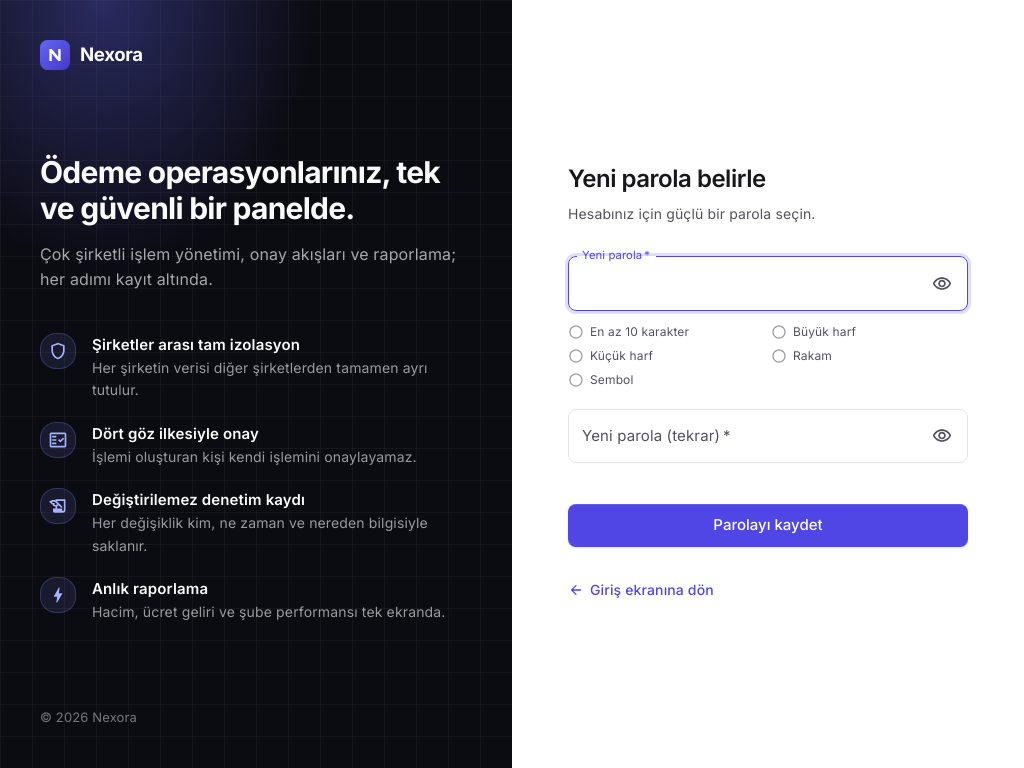
Test: reset password › sends the token from the link with the new password
Step 1. Type "Brand#New2026x" into the password field labelled "Yeni parola *" → coordinates (744, 284), box left=568, top=256, right=919, bottom=311
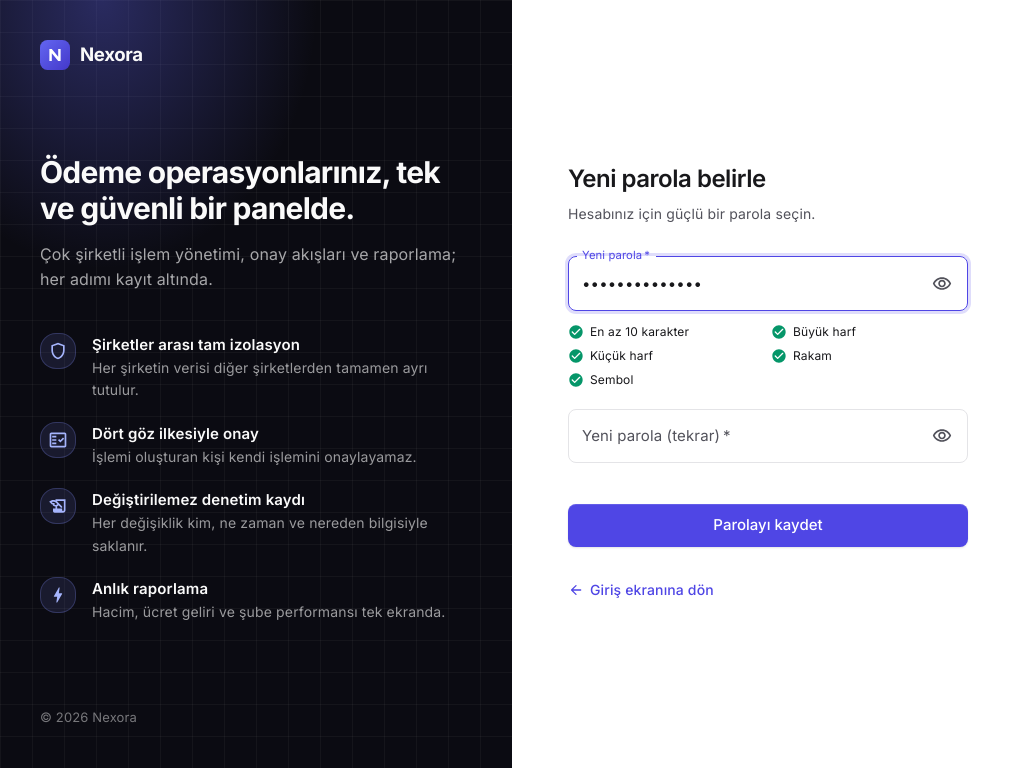
Step 2. Type "Brand#New2026x" into the password field labelled "Yeni parola (tekrar) *" → coordinates (744, 436), box left=568, top=409, right=919, bottom=464
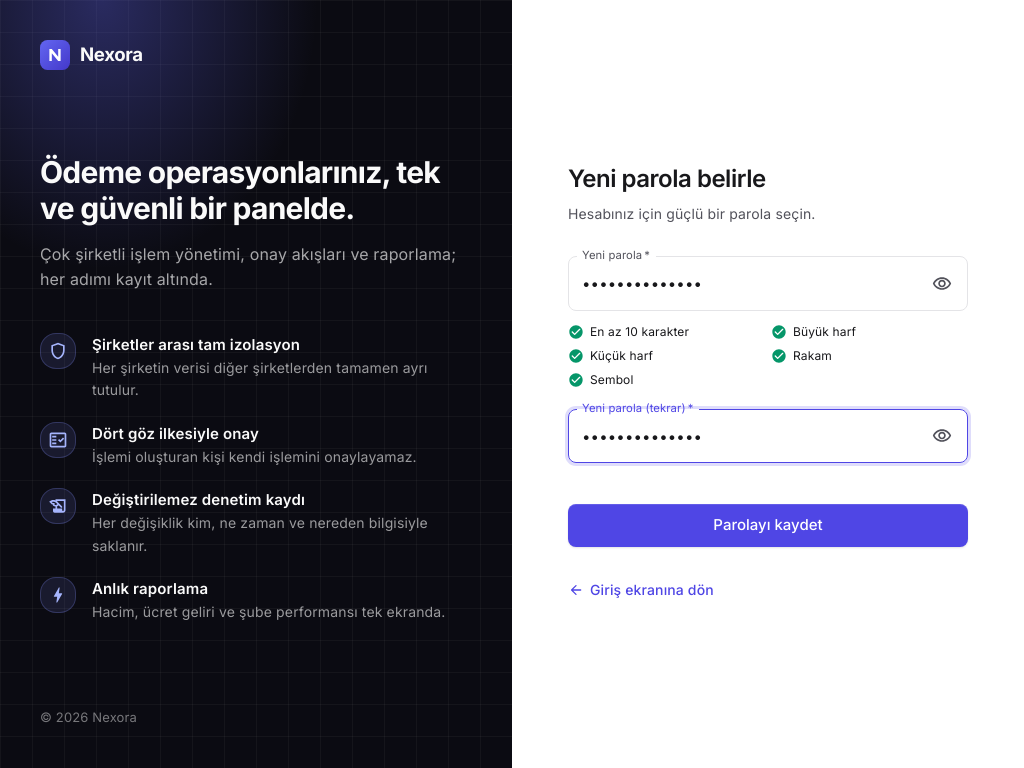
Step 3. Click the button "Parolayı kaydet" → coordinates (768, 526), box left=568, top=504, right=968, bottom=547
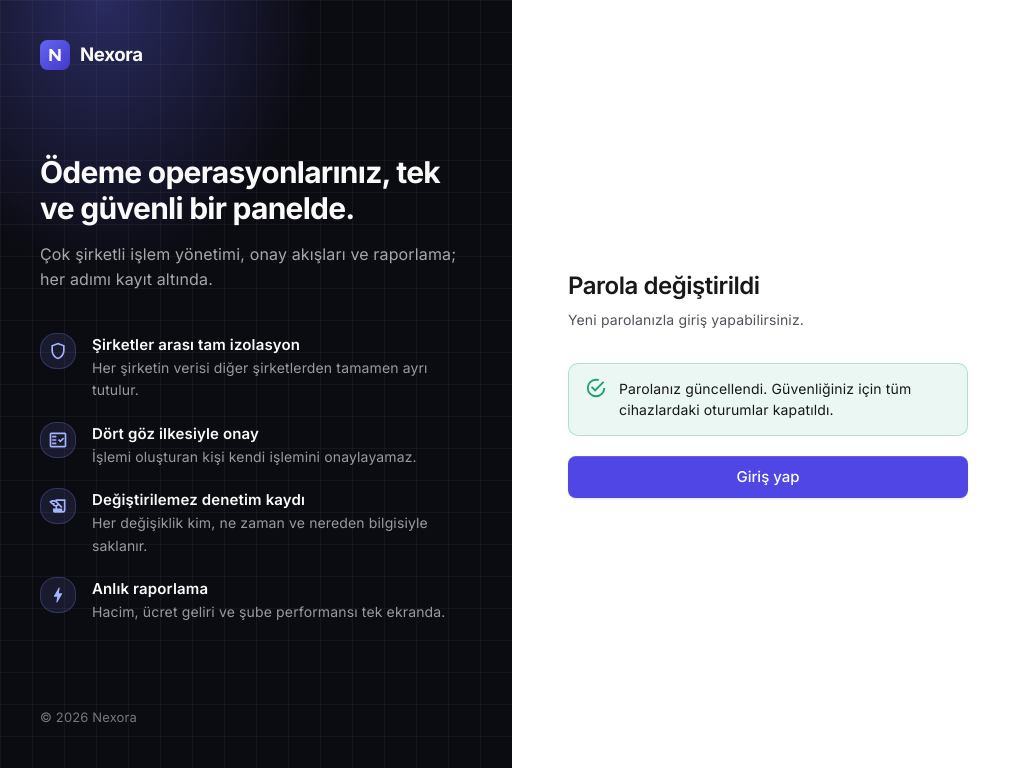
Now the heading "Parola değiştirildi" is shown, box left=568, top=271, right=760, bottom=300
